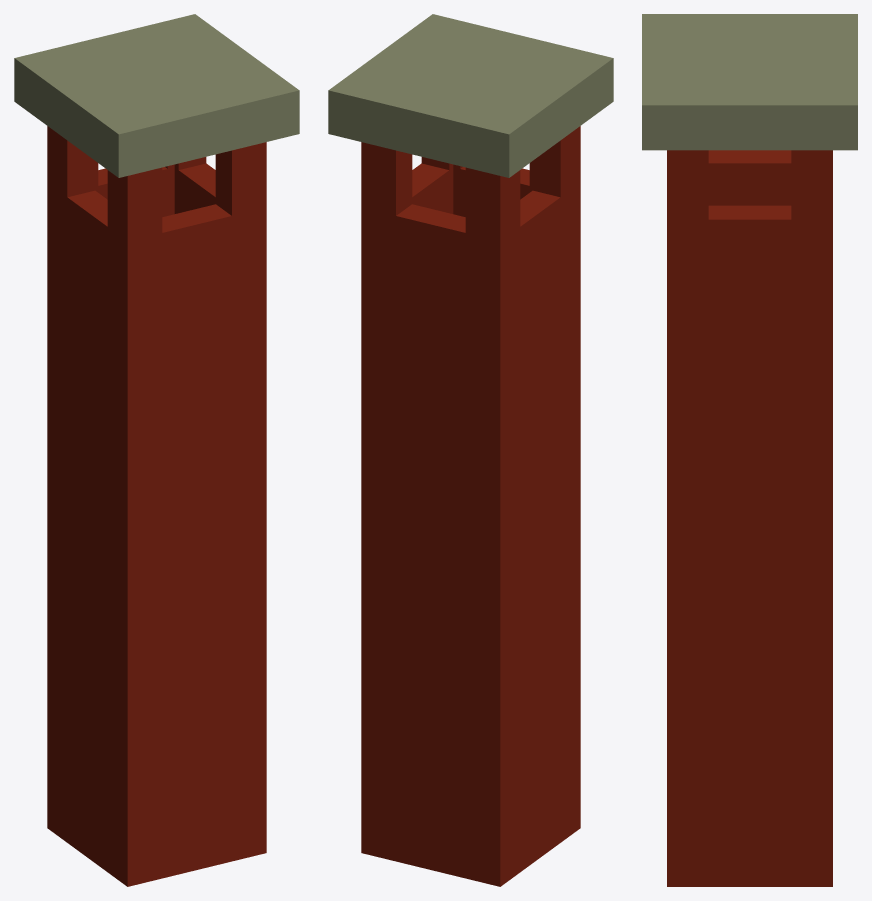
Rendered from chimney pot.fbx.
The picture shows the model from 3 angles, left to right: view 1: azimuth 30°, elevation 25°; view 2: azimuth 150°, elevation 25°; view 3: azimuth 270°, elevation 25°; orthographic projection. The views are drawn at different scales.
Parts seen in each view (by area): view 1: camino; view 2: camino; view 3: camino.
Part boxes in pixels (<box>): camino: <box>14,14,299,886</box>; camino: <box>328,14,613,886</box>; camino: <box>642,14,857,886</box>.
Bounding box in the file's own units: 52 × 211 × 52.
